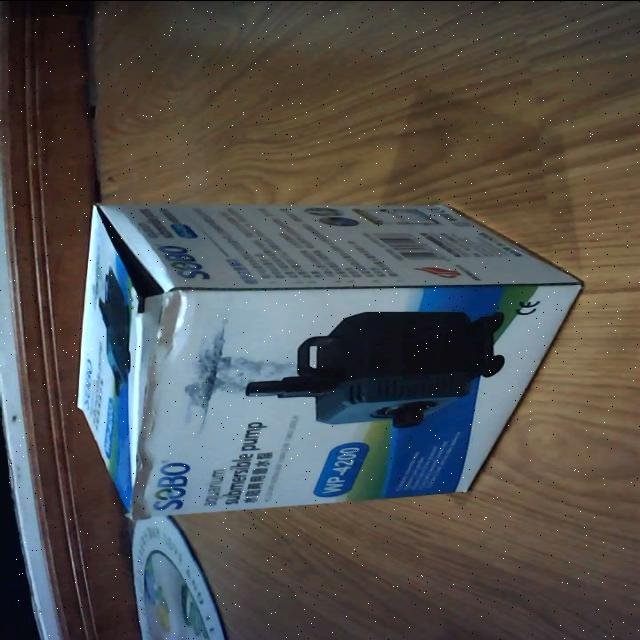SOBO_WP_4200: (71, 202, 583, 522)
